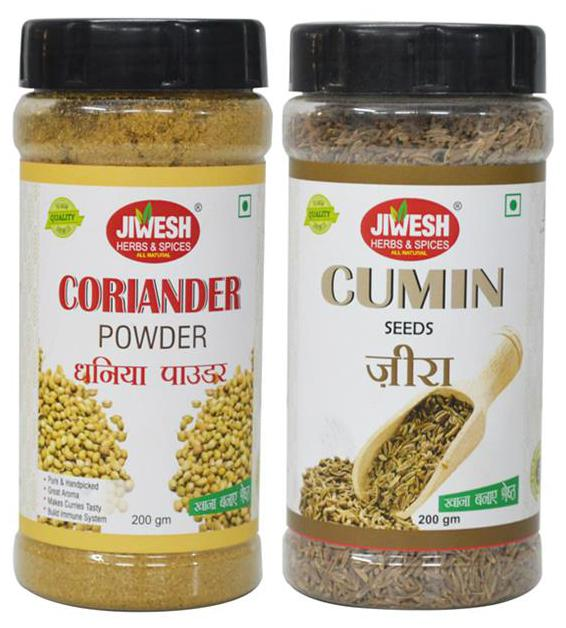JAR: (277, 16, 558, 616), (6, 9, 277, 616)
